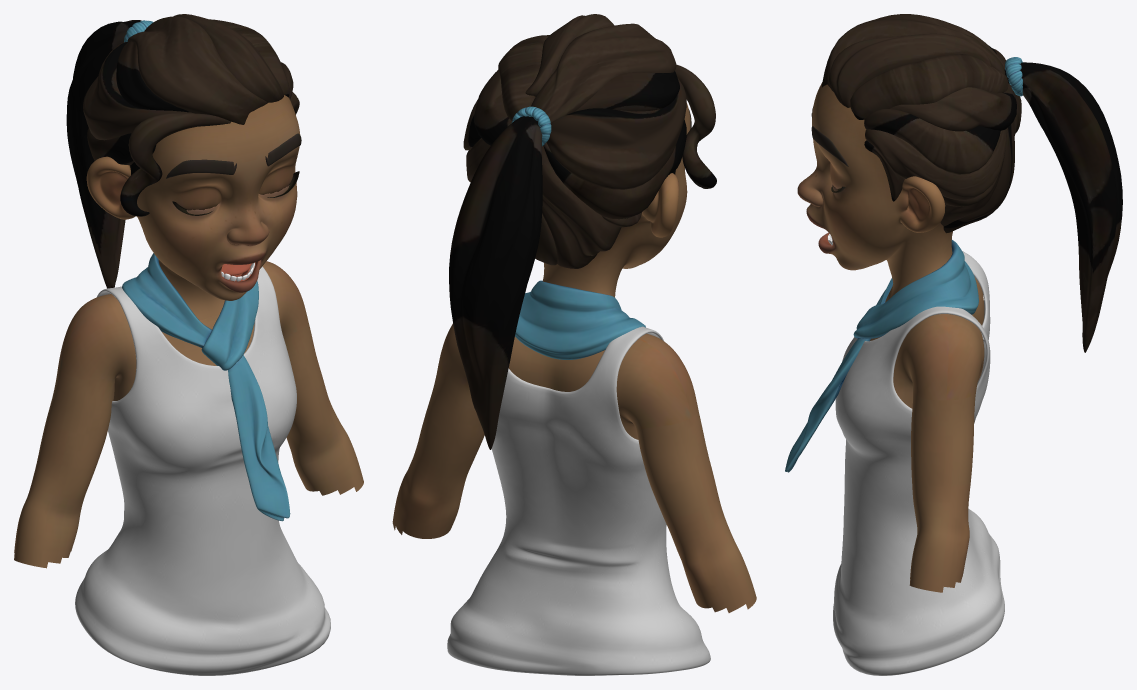
The model's file is rain.glb.
The picture shows the model from 3 angles, left to right: view 1: azimuth 30°, elevation 25°; view 2: azimuth 150°, elevation 25°; view 3: azimuth 270°, elevation 25°; orthographic projection. The views are drawn at different scales.
Parts seen in each view (by area): view 1: Rain_top, Rain_body, Rain_head, Rain_hair_main, Rain_scarf, Rain_hair_ponytail, Rain_hair_strand, Rain_eyebrows; view 2: Rain_top, Rain_hair_main, Rain_body, Rain_hair_ponytail, Rain_scarf, Rain_head, Rain_hair_strand, Rain_hairband; view 3: Rain_top, Rain_hair_main, Rain_body, Rain_head, Rain_hair_ponytail, Rain_scarf, Rain_hairband.
Part boxes in pixels (x1,y1,x2,y2): Rain_top: (75, 266, 330, 675); Rain_body: (14, 261, 363, 568); Rain_head: (86, 95, 300, 319); Rain_hair_main: (83, 14, 299, 174); Rain_scarf: (122, 253, 290, 521); Rain_hair_ponytail: (66, 20, 141, 288); Rain_hair_strand: (120, 113, 230, 216); Rain_eyebrows: (166, 133, 301, 178); Rain_top: (447, 326, 710, 675); Rain_hair_main: (463, 14, 686, 268); Rain_body: (392, 323, 756, 612); Rain_hair_ponytail: (449, 116, 542, 449); Rain_scarf: (515, 280, 645, 359); Rain_head: (542, 103, 690, 297); Rain_hair_strand: (675, 64, 716, 188); Rain_hairband: (511, 106, 551, 146); Rain_top: (833, 251, 1004, 675); Rain_hair_main: (822, 14, 1021, 233); Rain_body: (870, 277, 984, 592); Rain_head: (797, 82, 952, 298); Rain_hair_ponytail: (1004, 62, 1122, 352); Rain_scarf: (785, 240, 978, 472); Rain_hairband: (1005, 57, 1022, 96).
Bounding box in the file's own units: 0.4599 × 0.8008 × 0.406.
Materials: 15 (14 with a texture image).
